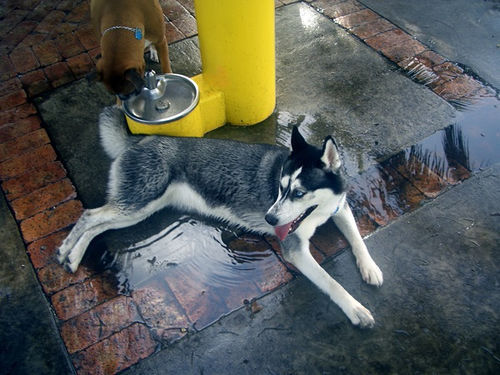dog: (56, 105, 383, 329)
